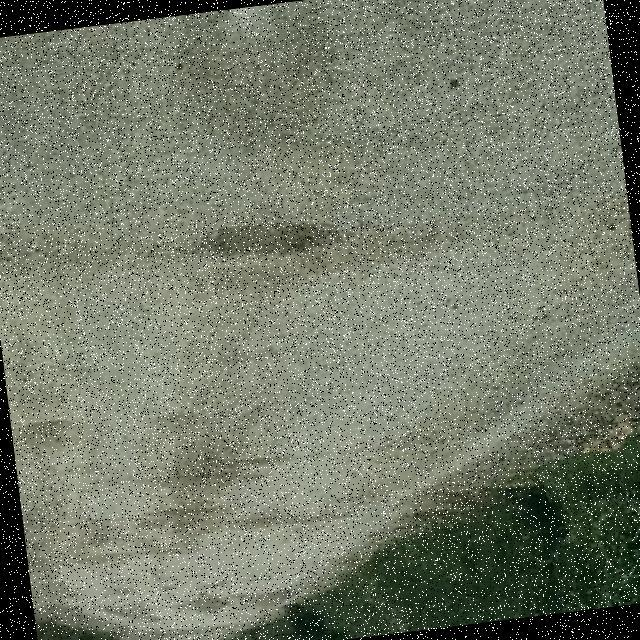Pothole: (199, 222, 343, 258), (20, 418, 70, 434)
